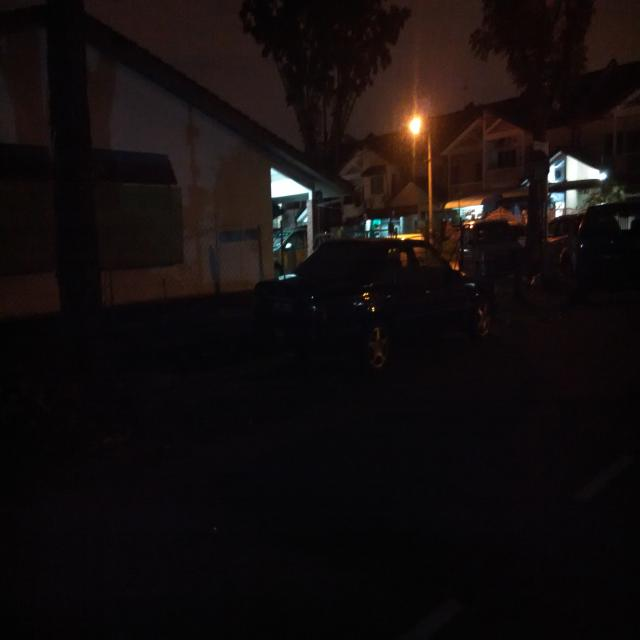Car: (292, 234, 516, 433)
